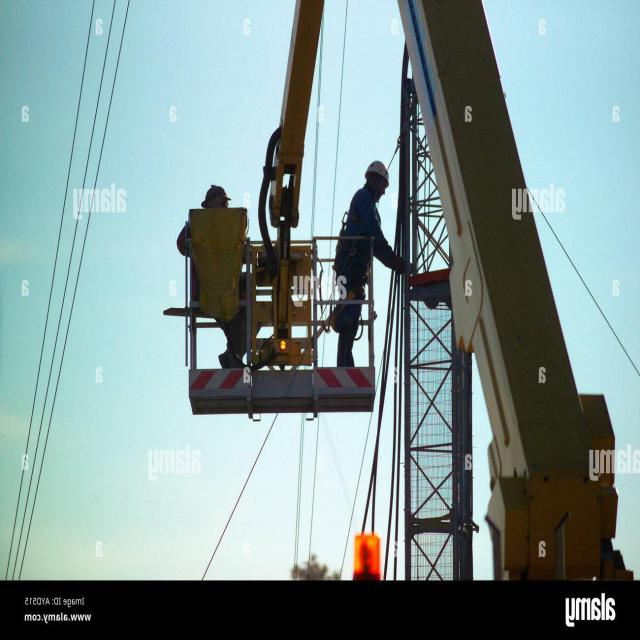Safety-Helmet: (364, 156, 393, 183)
